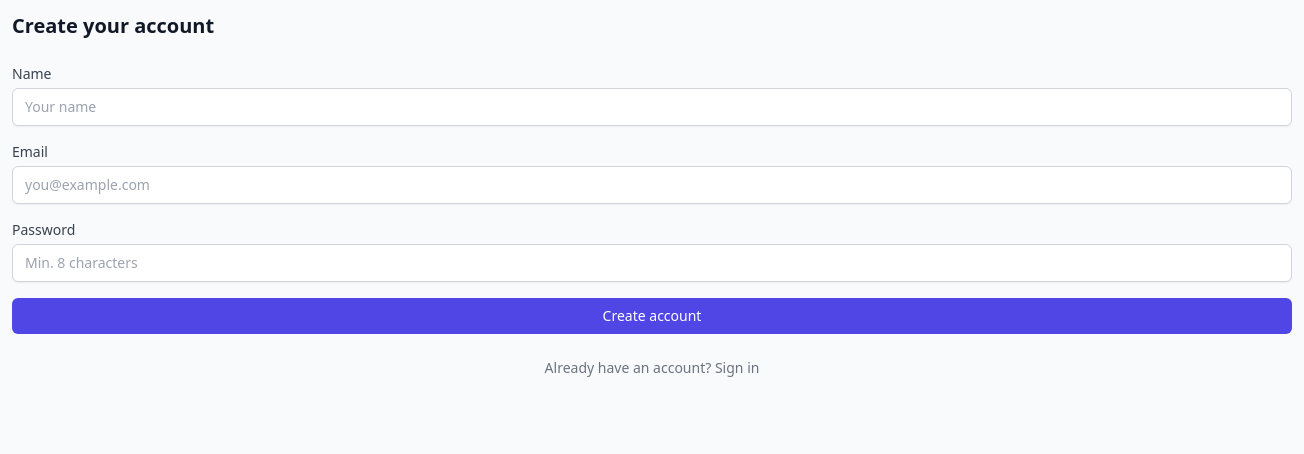
Test: RegisterForm › shows error message from API on failure
Type "Alice" into the field labelled "Name" at (652,107), box [12,88,1292,126]
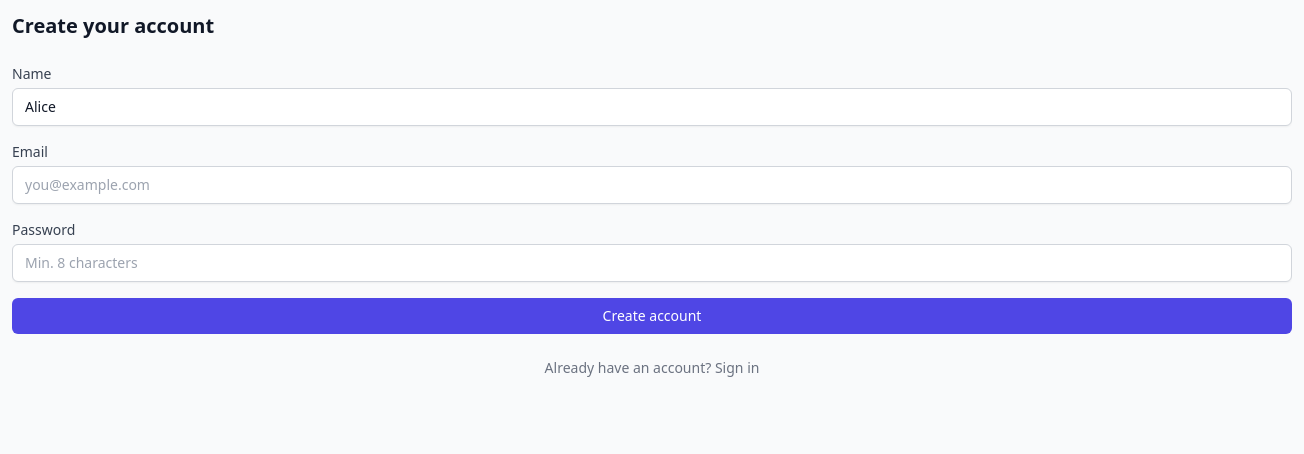
Type "alice@test.com" into the field labelled "Email" at (652,185), box [12,166,1292,204]
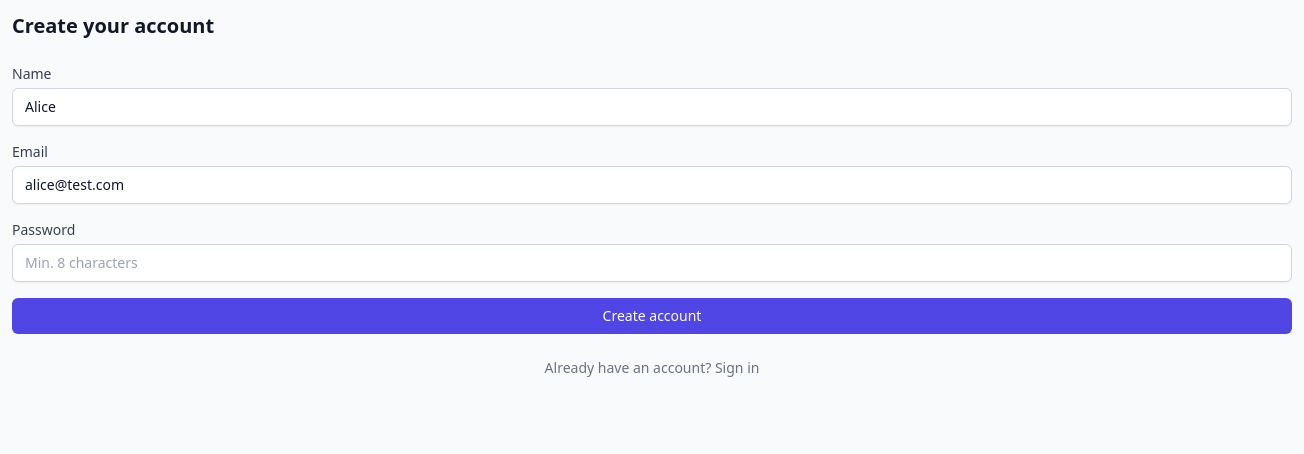
Type "password123" into the password field labelled "Password" at (652,263), box [12,244,1292,282]
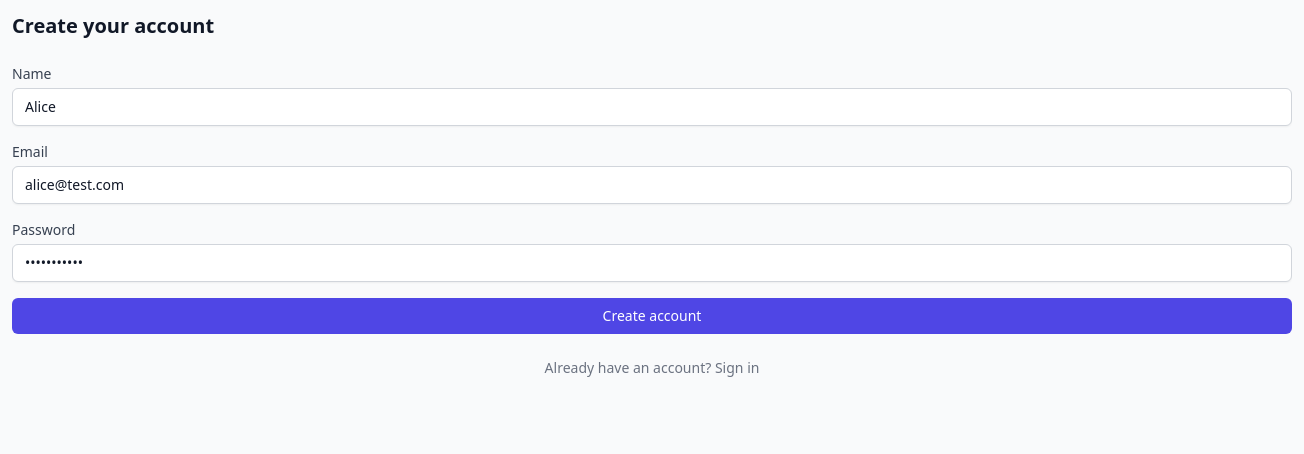
Submit the form labelled "Email", box [12,64,1292,334]
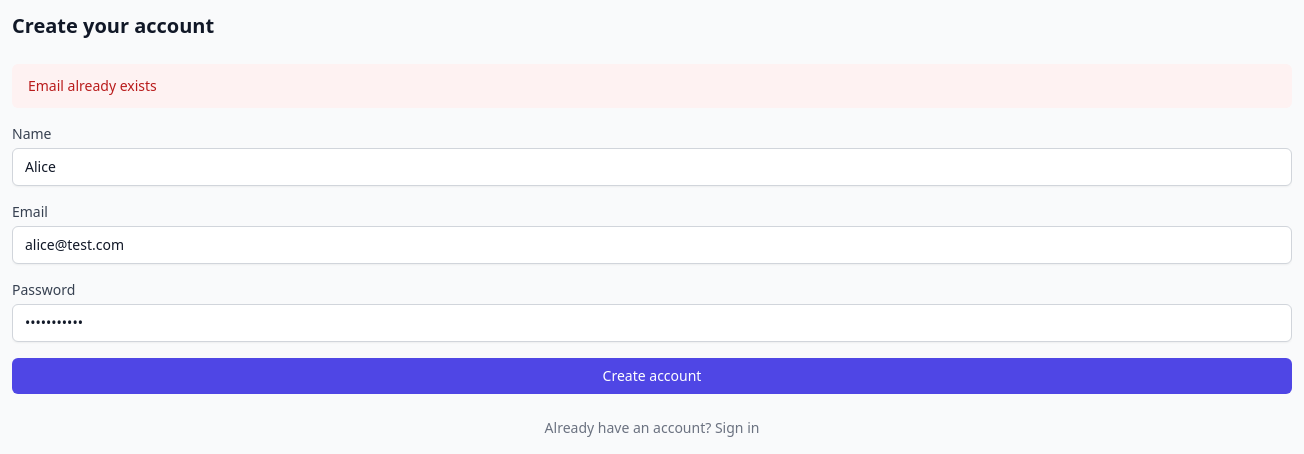
Now the text "Email already exists" is shown, box [12,64,1292,108]
